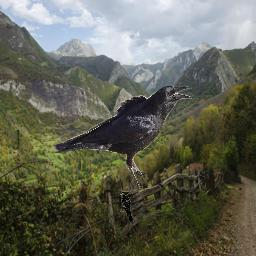Crow: (54, 85, 192, 192)
Woodpecker: (120, 191, 136, 225)
